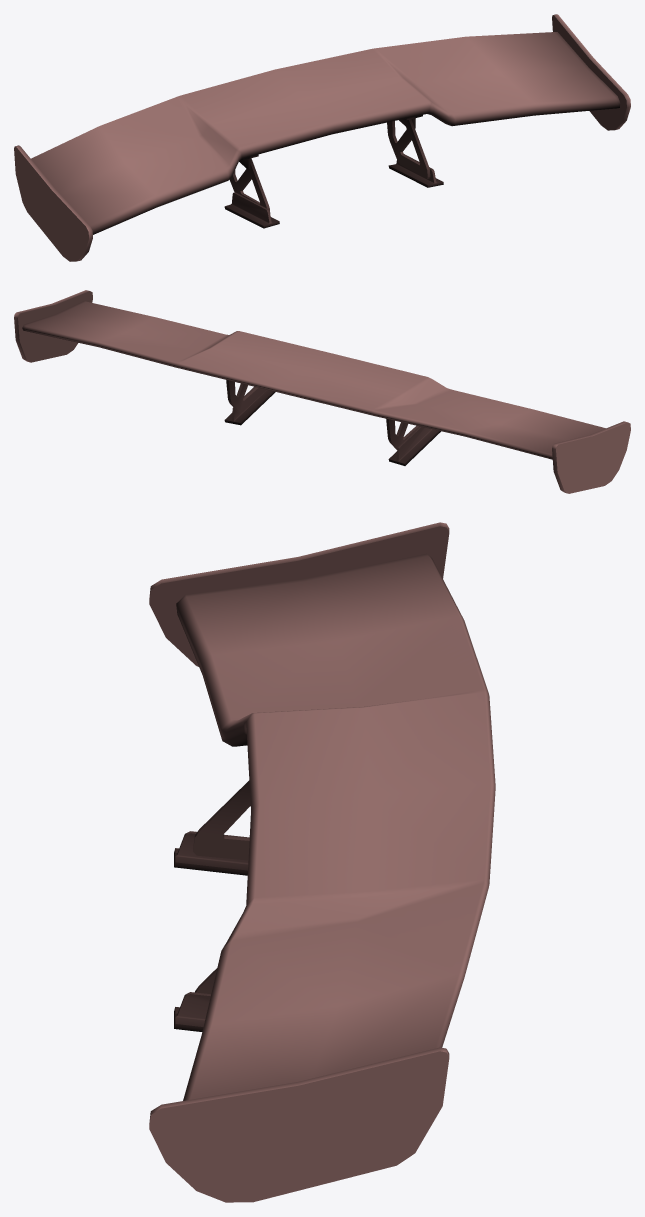
The model's file is G37_Spoiler_05_Trim.fbx.
The picture shows the model from 3 angles, top to bottom: view 1: azimuth 30°, elevation 25°; view 2: azimuth 150°, elevation 25°; view 3: azimuth 270°, elevation 25°; orthographic projection. The views are drawn at different scales.
Parts seen in each view (by area): view 1: G37_Spoiler_05_Trim; view 2: G37_Spoiler_05_Trim; view 3: G37_Spoiler_05_Trim.
Part boxes in pixels (x1,y1,x2,y2): G37_Spoiler_05_Trim: (14, 14, 630, 261); G37_Spoiler_05_Trim: (14, 290, 630, 493); G37_Spoiler_05_Trim: (149, 522, 495, 1202).
Size of the model in its own units: 148 by 22.98 by 40.99.
